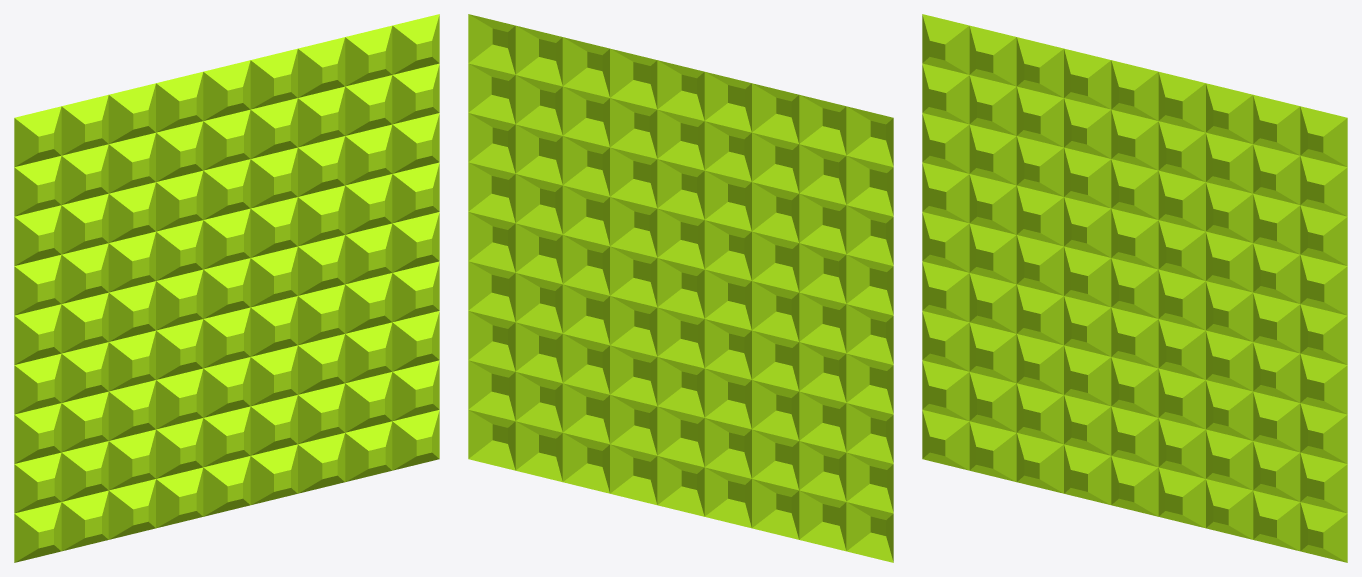
The model's file is BlockyFloor.fbx.
3 views of the same model, side by side, from view 1: azimuth 30°, elevation 25°; view 2: azimuth 150°, elevation 25°; view 3: azimuth 330°, elevation 25° (orthographic).
Visible parts, largest first — view 1: BlockyPlane; view 2: BlockyPlane; view 3: BlockyPlane.
Part boxes in pixels (bbox=[...]): BlockyPlane: bbox=[14, 14, 439, 562]; BlockyPlane: bbox=[468, 14, 893, 562]; BlockyPlane: bbox=[922, 14, 1347, 562].
Size of the model in its own units: 2 by 2 by 0.0683.
